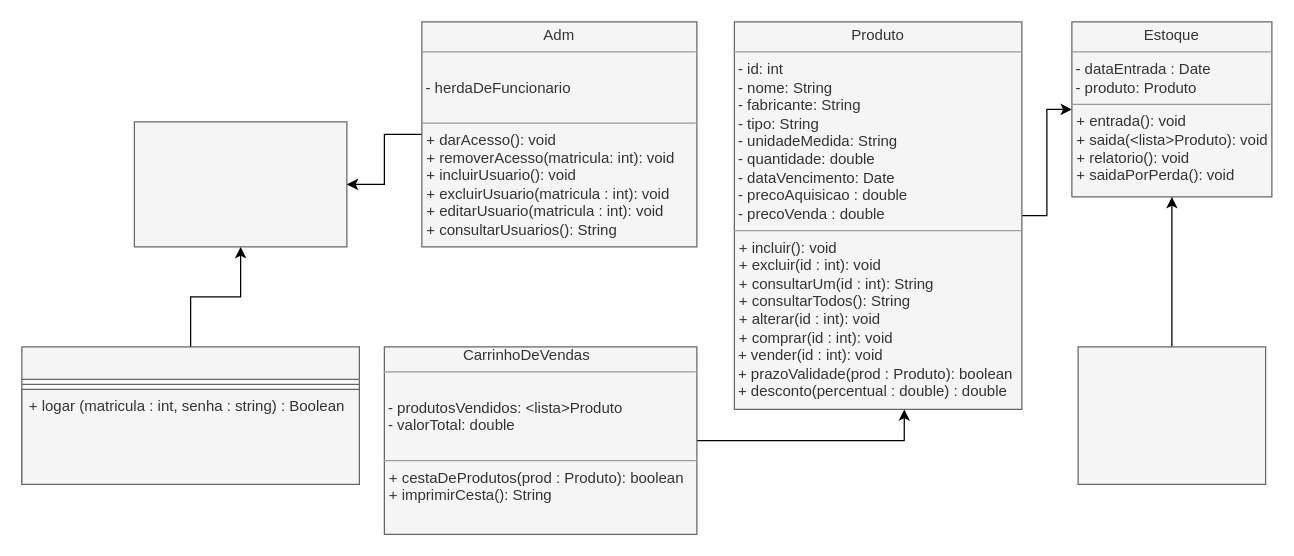
This 1294x556 diagram has some shape labels left out. The box of each missing label's shape, as (x1, y1, x2, y2) in pixels:
Contabilidade + relatorio(): void: (1077, 346, 1266, 484)
Funcionarios - matricula: int - nome: String - admin: boolean - senha: String: (133, 121, 347, 247)
Login: (21, 346, 359, 484)
